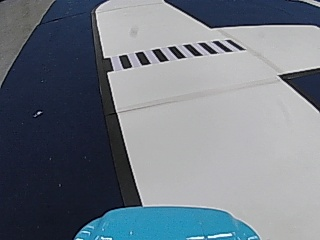CrossWalk: (114, 38, 240, 70)
